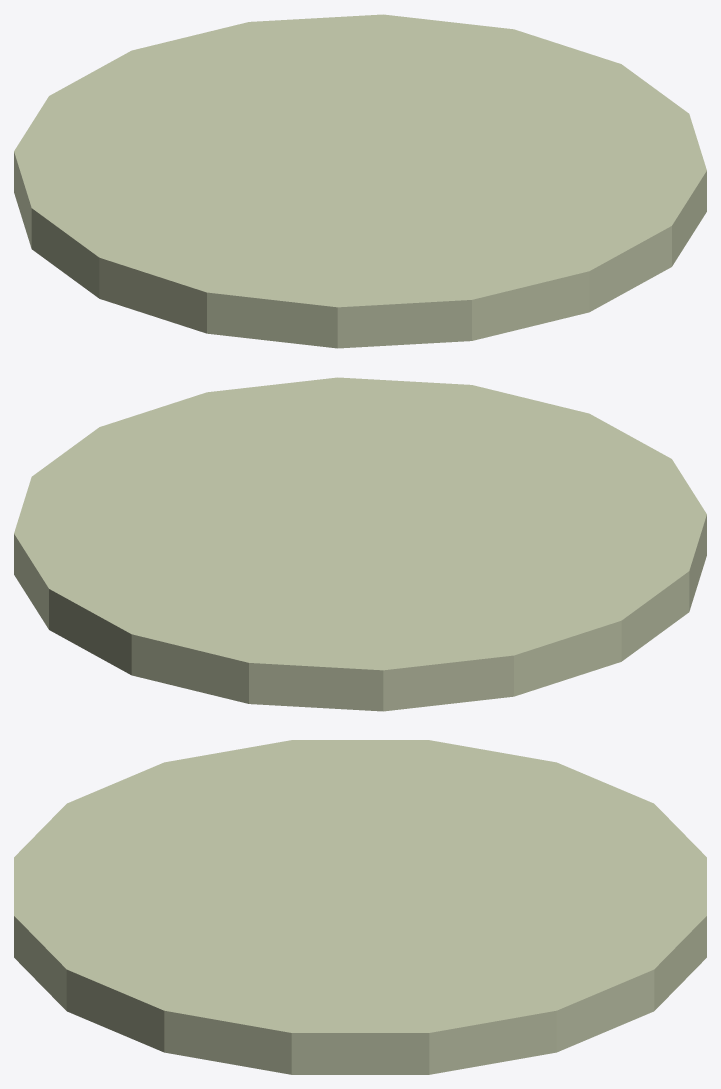
The model's file is sargas_control_s1p5_1_collider.obj.
3 views of the same model, one above another, from view 1: azimuth 30°, elevation 25°; view 2: azimuth 150°, elevation 25°; view 3: azimuth 270°, elevation 25° (orthographic).
Visible parts, largest first — view 1: sargas_control_s1p5_1_collider; view 2: sargas_control_s1p5_1_collider; view 3: sargas_control_s1p5_1_collider.
Part boxes in pixels (<box>): sargas_control_s1p5_1_collider: <box>14,14,706,348</box>; sargas_control_s1p5_1_collider: <box>14,377,706,711</box>; sargas_control_s1p5_1_collider: <box>14,740,706,1074</box>.
Bounding box in the file's own units: 1.88 × 0.125 × 1.88.
